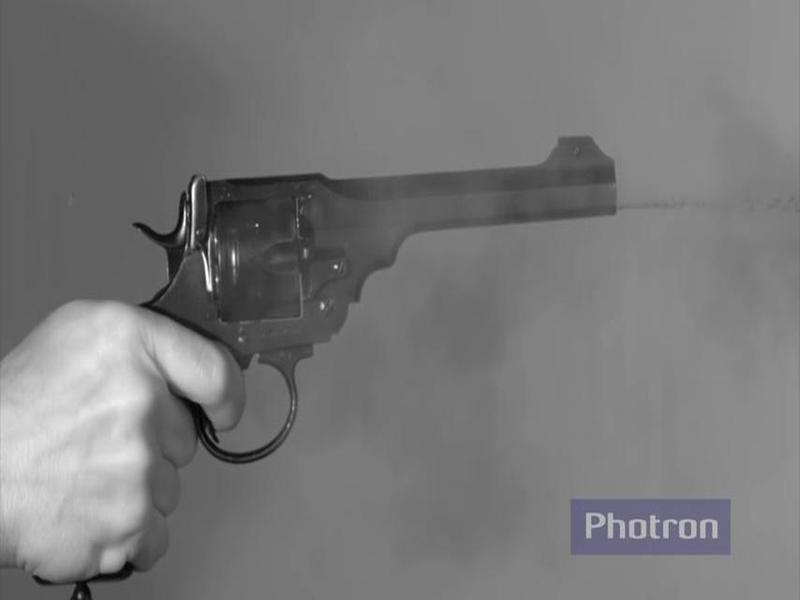Revolver: (124, 111, 644, 468)
